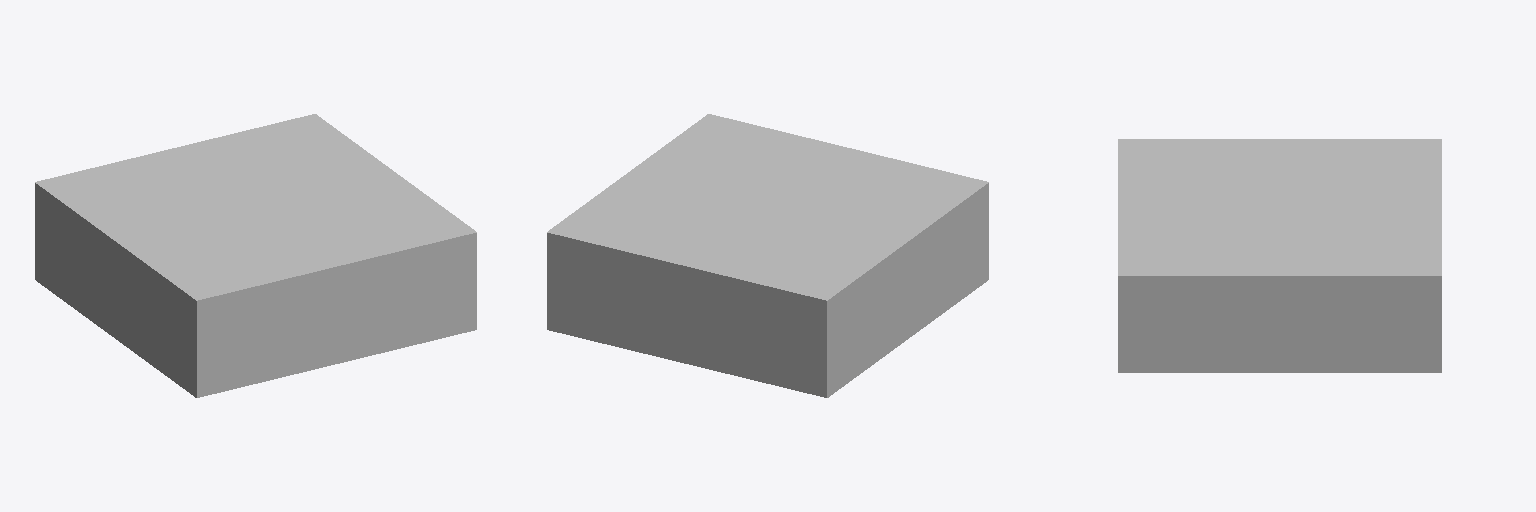
The model's file is band room.obj.
The picture shows the model from 3 angles: view 1: azimuth 30°, elevation 25°; view 2: azimuth 150°, elevation 25°; view 3: azimuth 270°, elevation 25°; orthographic projection.
Visible parts, largest first — view 1: Cube_Cube.001; view 2: Cube_Cube.001; view 3: Cube_Cube.001.
Boxes of the visible parts, x1,y1,x2,y2 form: Cube_Cube.001: [35, 114, 476, 397]; Cube_Cube.001: [547, 114, 988, 397]; Cube_Cube.001: [1118, 139, 1441, 372].
Size of the model in its own units: 36.02 by 11.95 by 36.02.